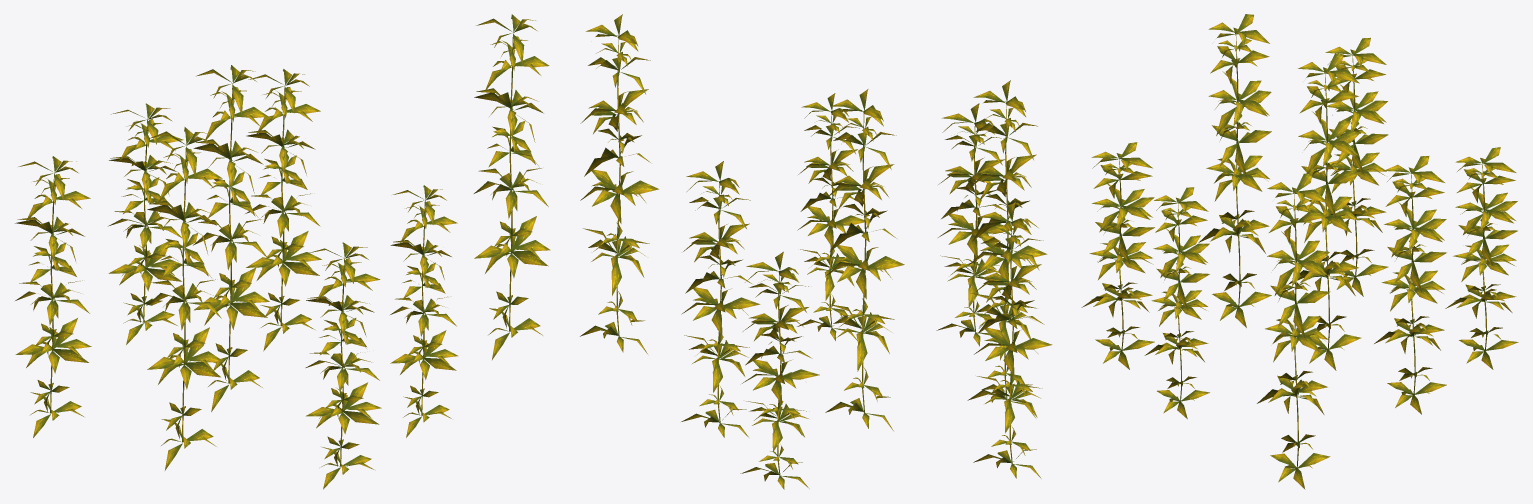
Rendered from seaweed6.obj.
3 renders of one model, left to right at view 1: azimuth 30°, elevation 25°; view 2: azimuth 150°, elevation 25°; view 3: azimuth 270°, elevation 25°, orthographic. The views are drawn at different scales.
Size of the model in its own units: 194 by 126 by 162.
Materials: 1 (1 with a texture image).
